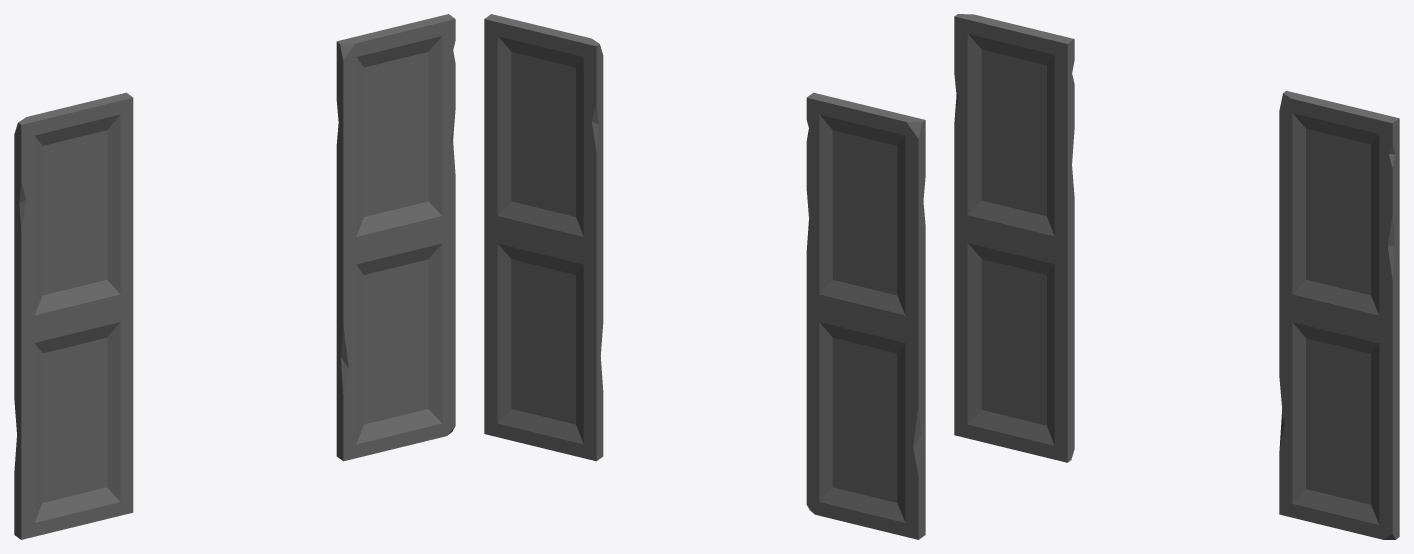
File: SM_Bld_House_Window_Shutters_Open_01.fbx
The picture shows the model from 3 angles, left to right: view 1: azimuth 30°, elevation 25°; view 2: azimuth 150°, elevation 25°; view 3: azimuth 330°, elevation 25°; orthographic projection.
Visible parts, largest first — view 1: SM_Bld_House_Window_Shutters_Open_01; view 2: SM_Bld_House_Window_Shutters_Open_01; view 3: SM_Bld_House_Window_Shutters_Open_01.
Part boxes in pixels (box(x1,y1,x2,y2)): SM_Bld_House_Window_Shutters_Open_01: box(14, 14, 455, 539); SM_Bld_House_Window_Shutters_Open_01: box(484, 14, 925, 539); SM_Bld_House_Window_Shutters_Open_01: box(954, 14, 1399, 539).
Bounding box in the file's own units: 188 × 172 × 5.16.
